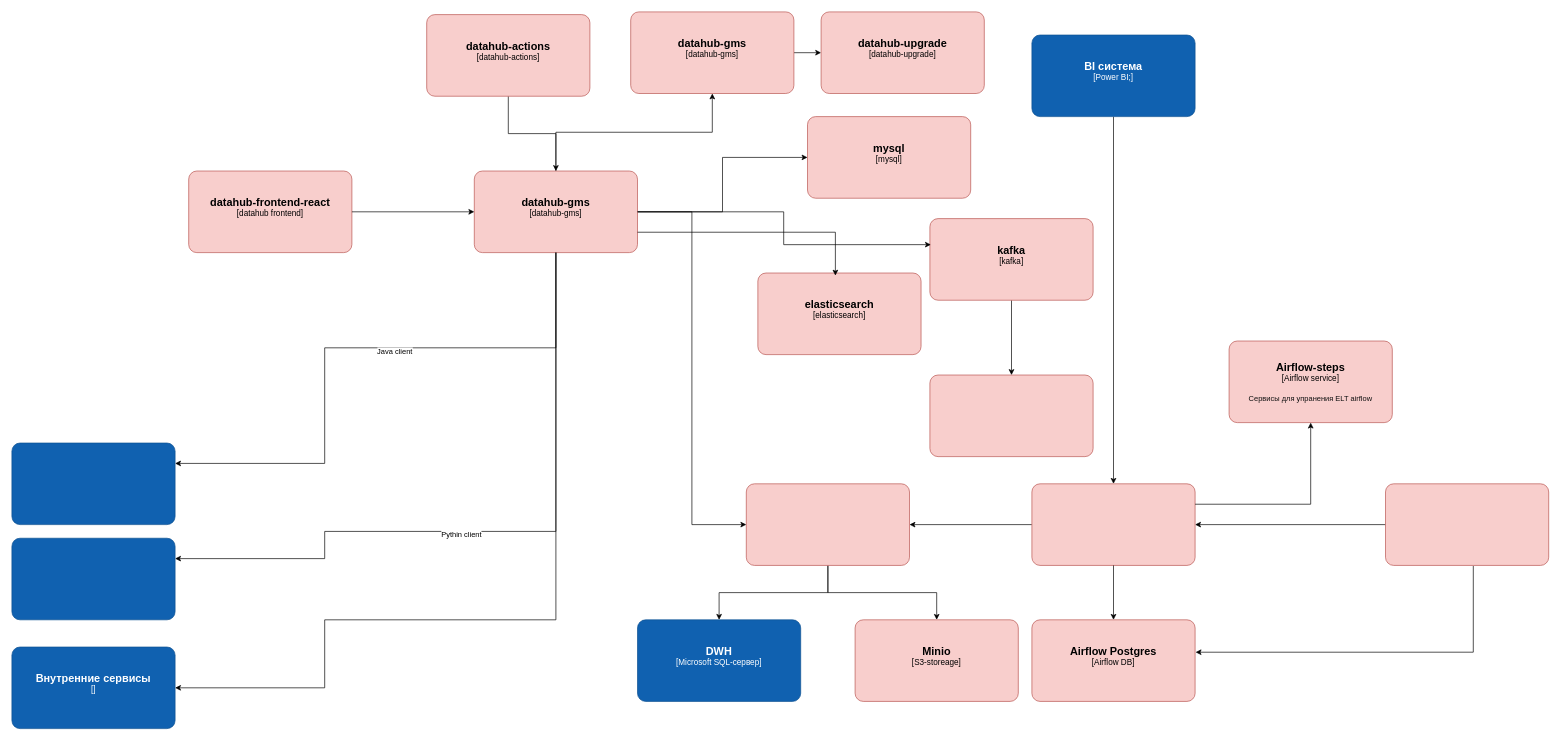
Some shapes in this 1561 by 741 pixel diagram are drawn without their labels. The shapes that lost their labels are listed below. From the top down, each one's box as (x1, y1, x2, y2) in pixels, then its label:
(929, 374, 1093, 457): zookeeper [service discovery]
(11, 442, 175, 525): Финтех сервисы [Java Go]
(746, 483, 910, 565): Dremio [Airflow]
(1031, 483, 1195, 565): Airflow-webserver [Airflow]
(1385, 483, 1549, 565): Airflow-scheduler [Airflow]
(11, 538, 175, 620): ИИ Сервисы [Python]
